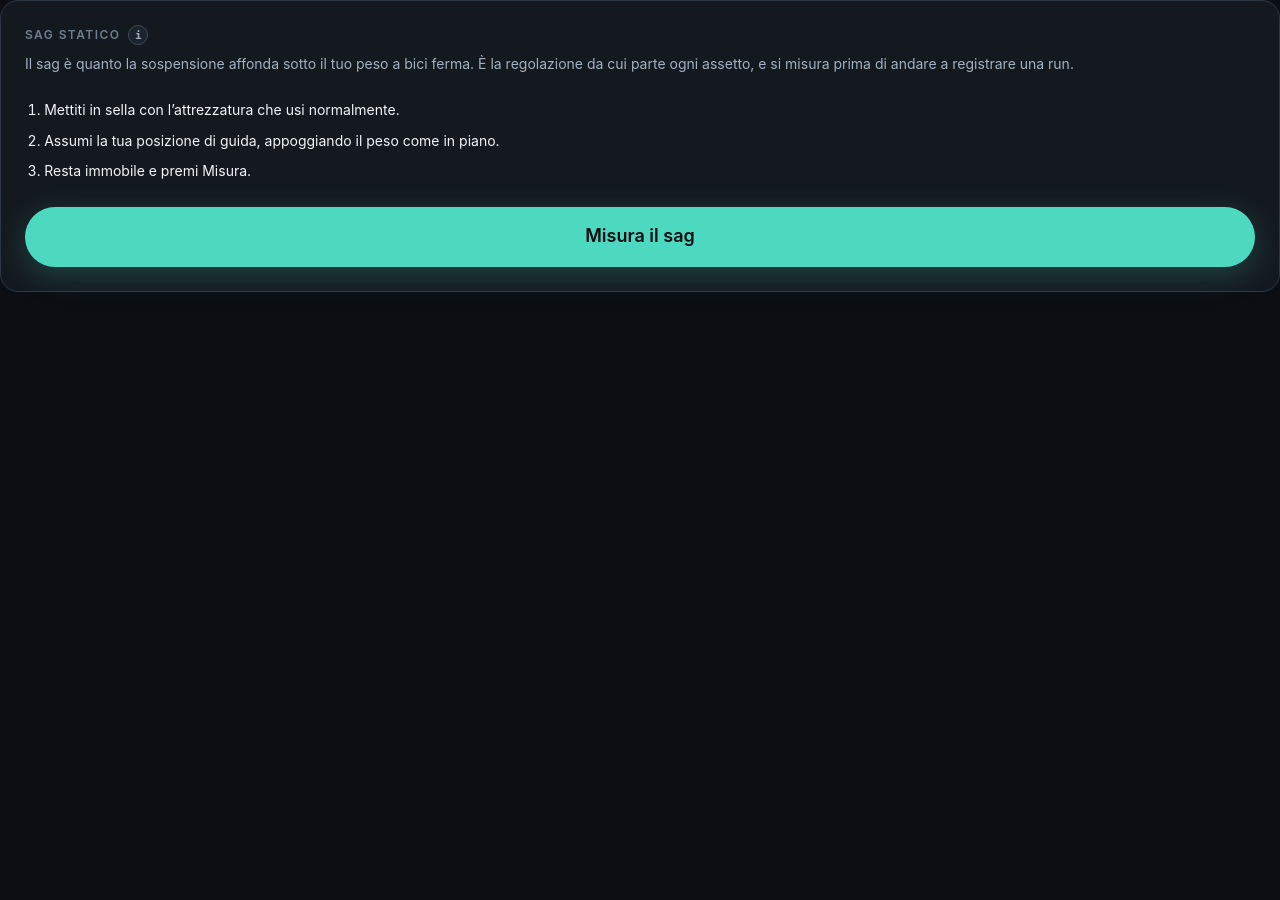
flusso di misura del sag › misura un sag eccessivo e dice di quanto cambiare la pressione
Click the button "Misura il sag".
click(640, 237)  # box x1=25 y1=207 x2=1255 y2=267
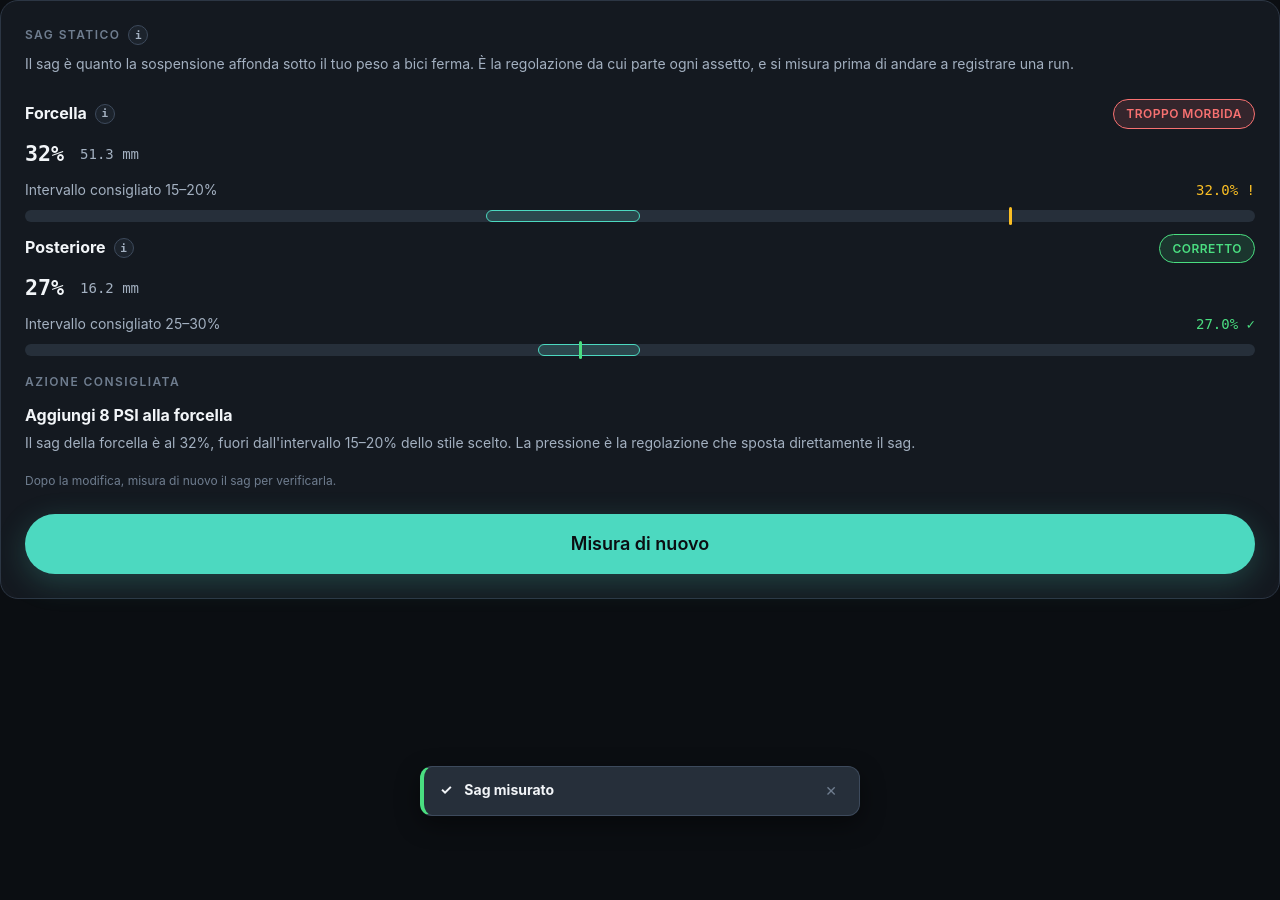
Expected: the text "Azione consigliata" is shown, x1=25 y1=374 x2=180 y2=389
Expected: the text "Aggiungi 8 PSI alla forcella" is shown, x1=25 y1=405 x2=232 y2=425
